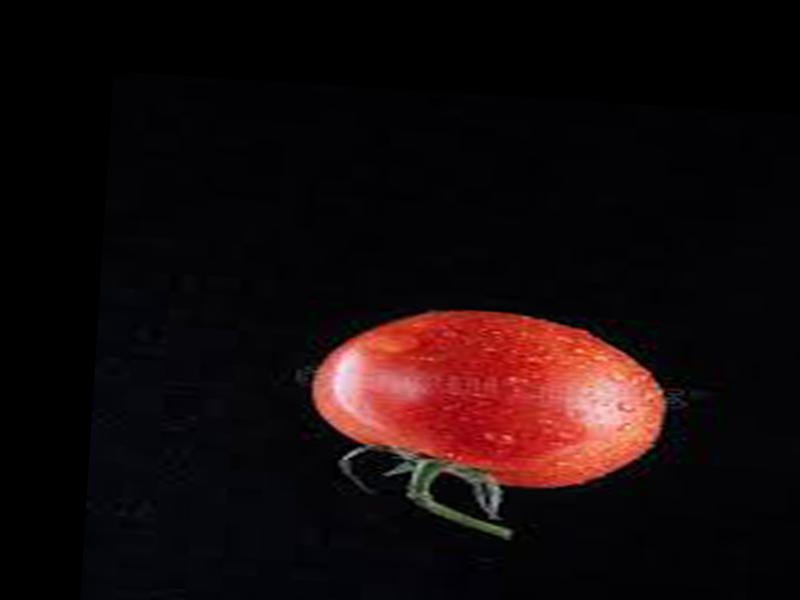Tomato: (307, 300, 672, 496)
